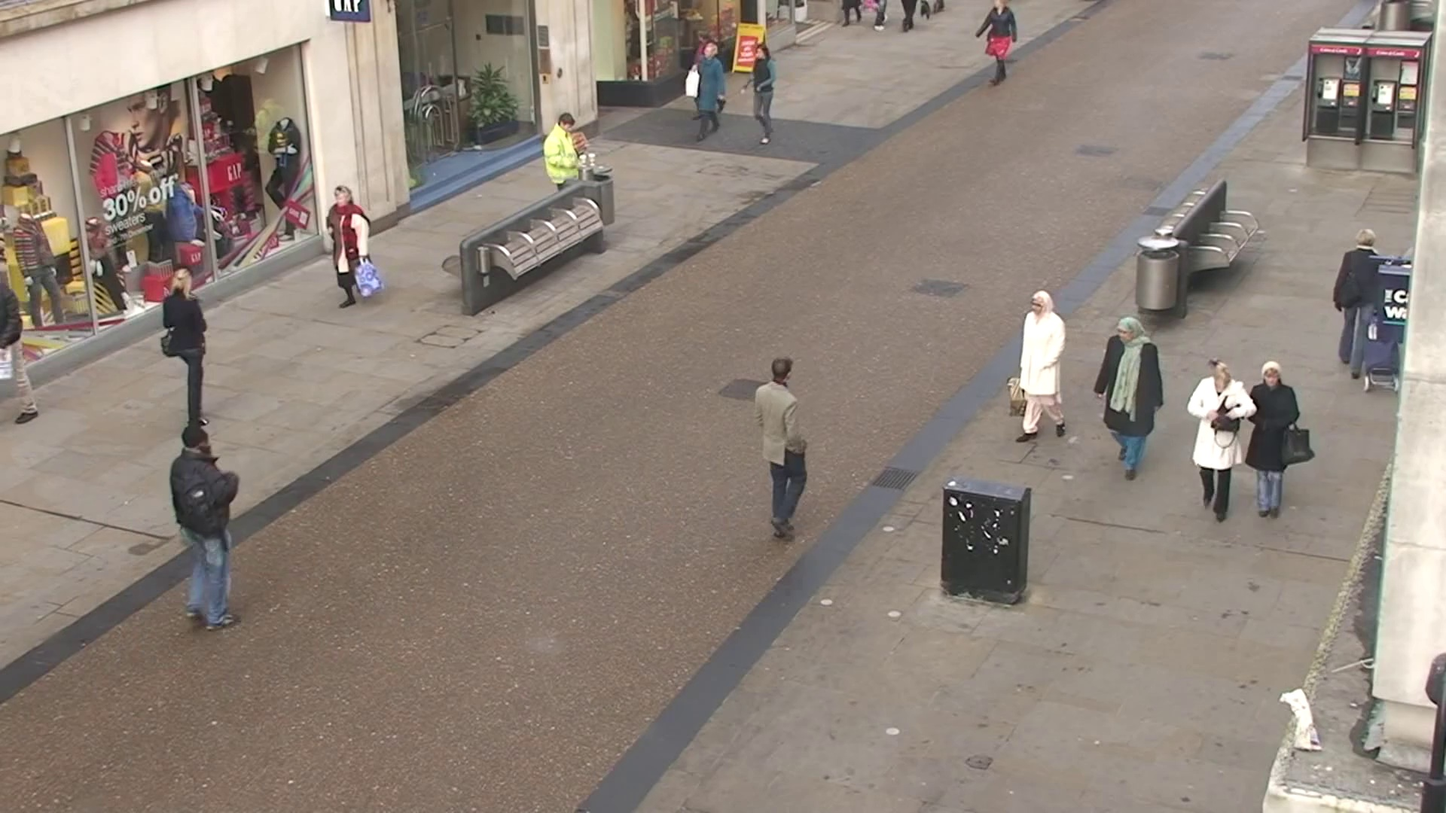person: (168, 422, 240, 631), (1093, 313, 1165, 481), (1186, 358, 1254, 522), (755, 358, 808, 541), (1242, 360, 1302, 521), (1014, 286, 1069, 440), (1331, 225, 1384, 381), (157, 276, 208, 431), (0, 262, 42, 424), (326, 185, 372, 298), (688, 40, 729, 142), (976, 2, 1019, 89), (544, 113, 589, 187), (749, 33, 777, 145)
